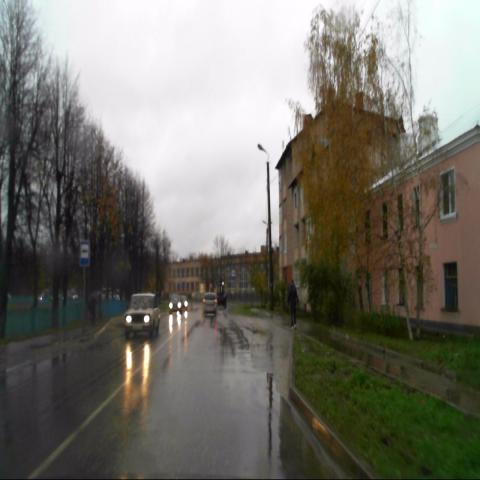5_16: (79, 240, 90, 267)
